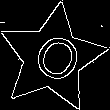O_SW: (21, 25, 83, 90)
